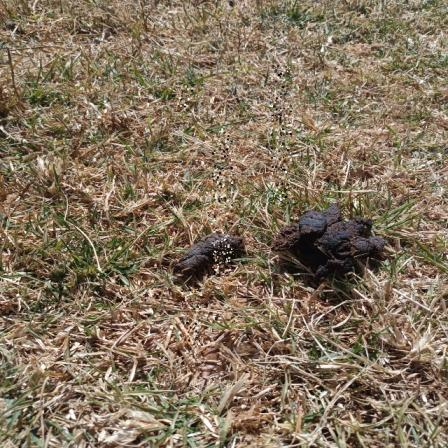dog-poop: (268, 198, 380, 282), (166, 222, 238, 280)
